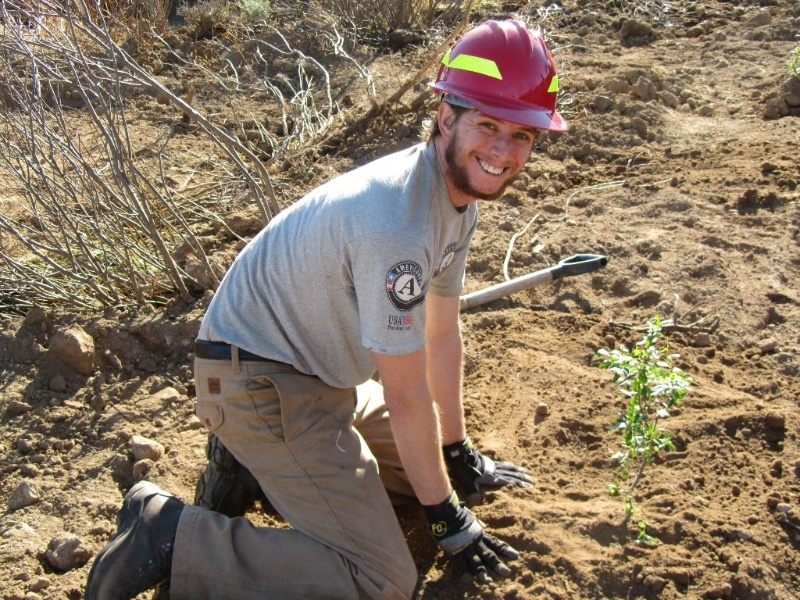Baret: (428, 19, 569, 136)
